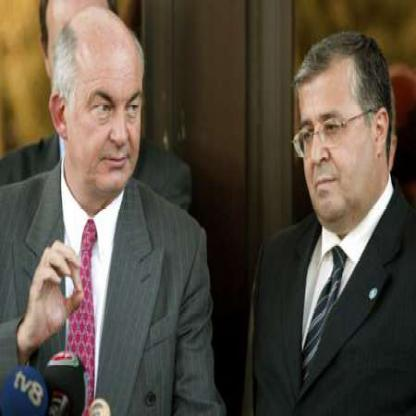face: (293, 40, 377, 227), (66, 13, 149, 201)
